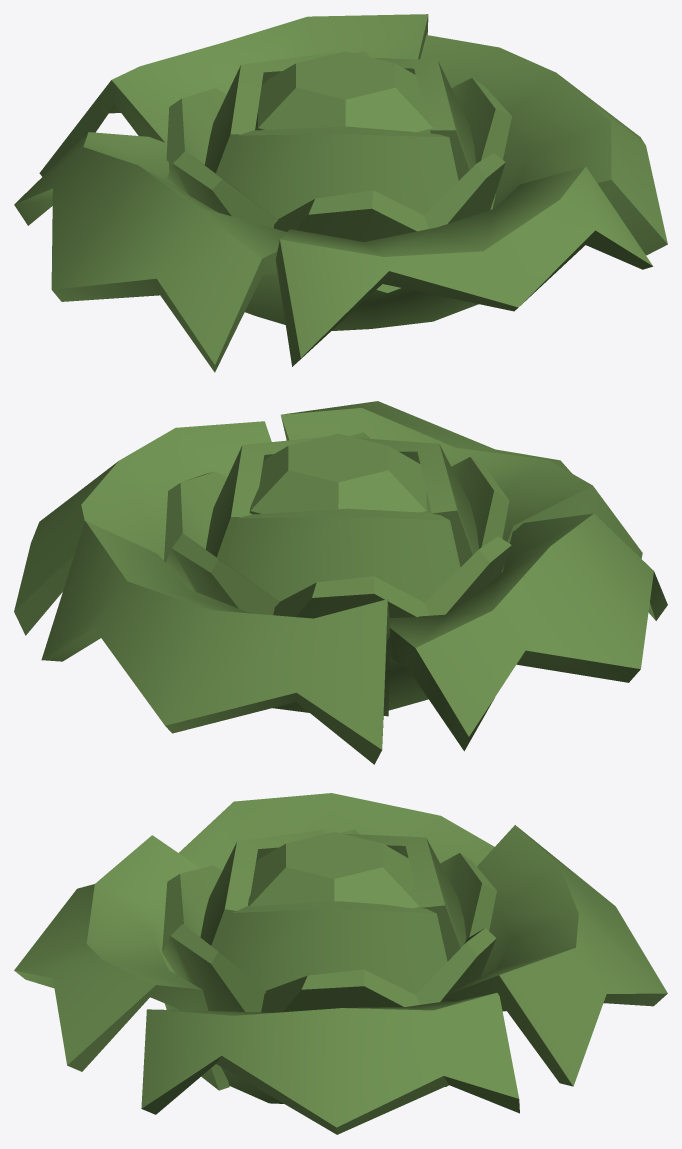
Rendered from Cabbage.fbx.
The picture shows the model from 3 angles, top to bottom: view 1: azimuth 30°, elevation 25°; view 2: azimuth 150°, elevation 25°; view 3: azimuth 270°, elevation 25°; orthographic projection. The views are drawn at different scales.
Visible parts, largest first — view 1: Cabbage; view 2: Cabbage; view 3: Cabbage.
Boxes of the visible parts, x1,y1,x2,y2 form: Cabbage: [14, 14, 667, 372]; Cabbage: [14, 401, 667, 764]; Cabbage: [14, 793, 667, 1134].
Size of the model in its own units: 33.69 by 10.25 by 32.99.
